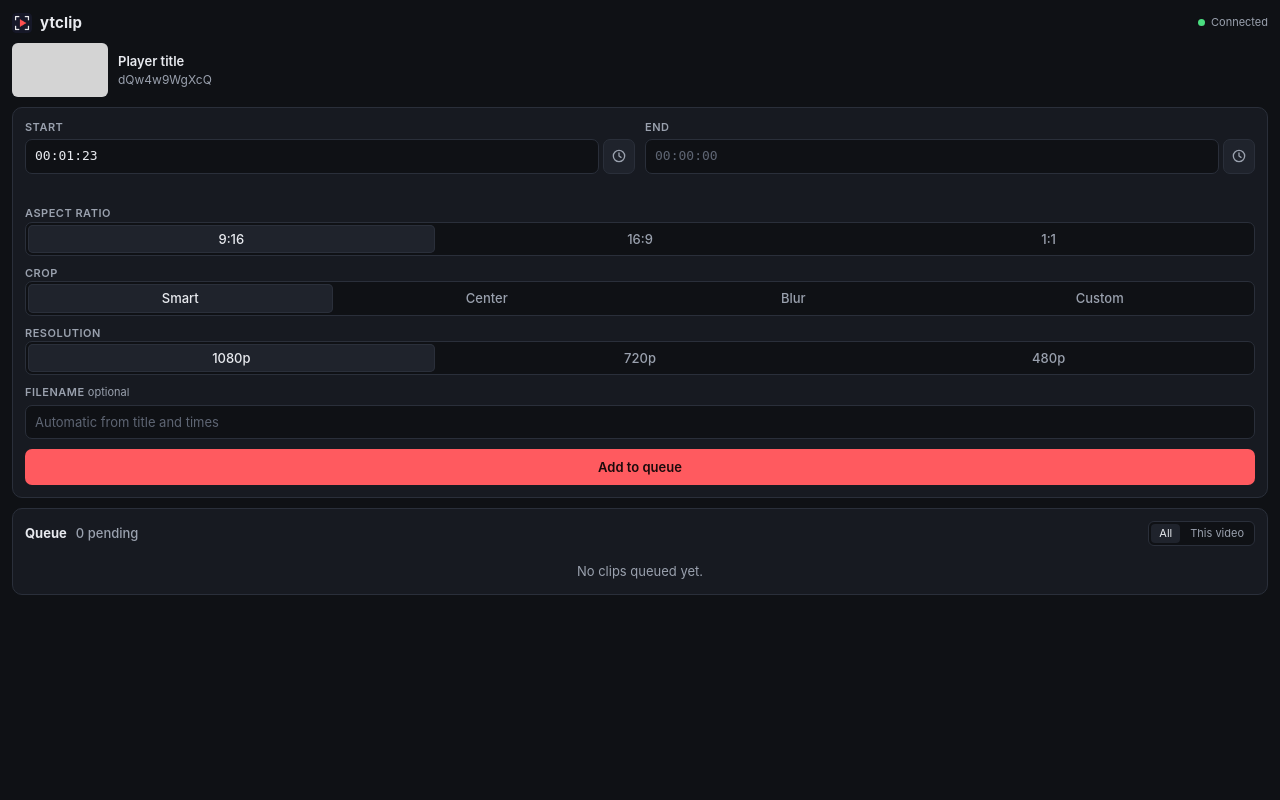
Test case: App › starts a download and clears the queue
Type "00:01:40" into the field labelled "End".
click(932, 156); type("00:01:40")  # box 645,139 -> 1219,174
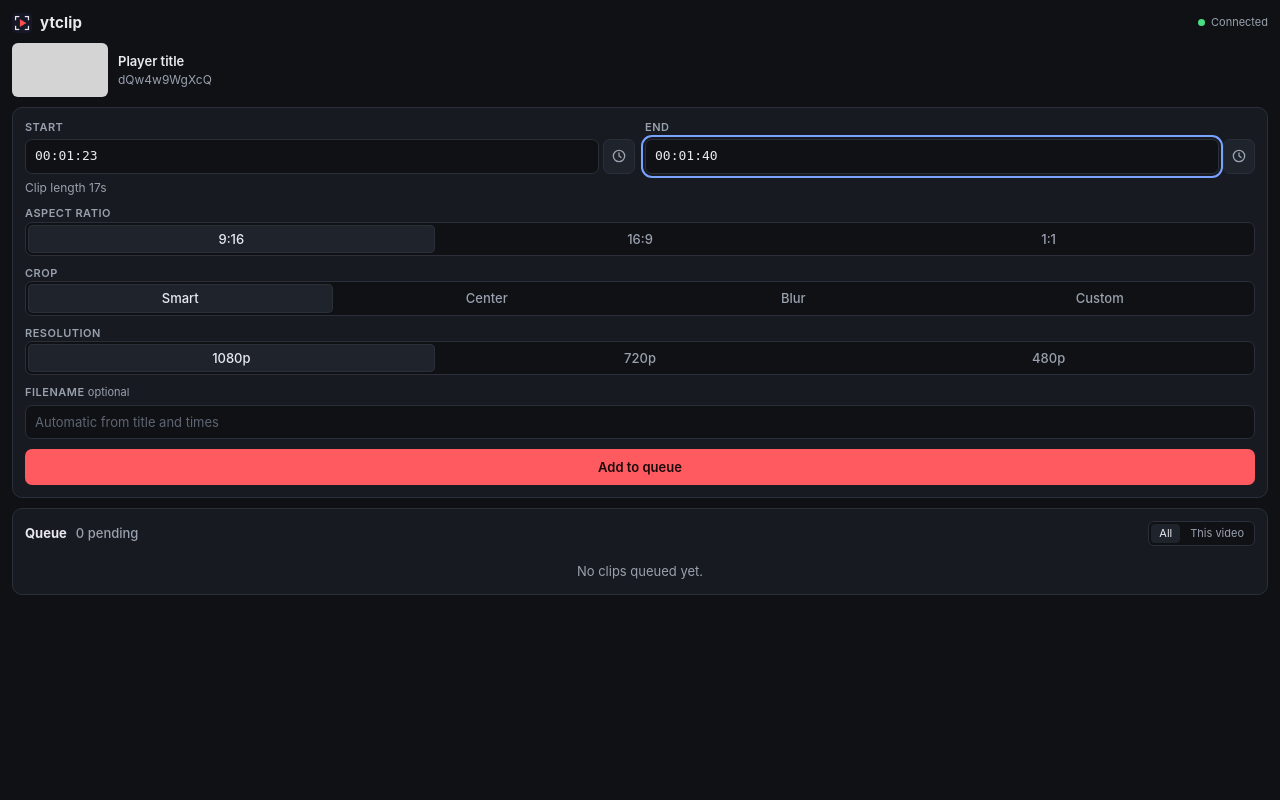
Click the button "Add to queue".
click(640, 467)  # box 25,449 -> 1255,485
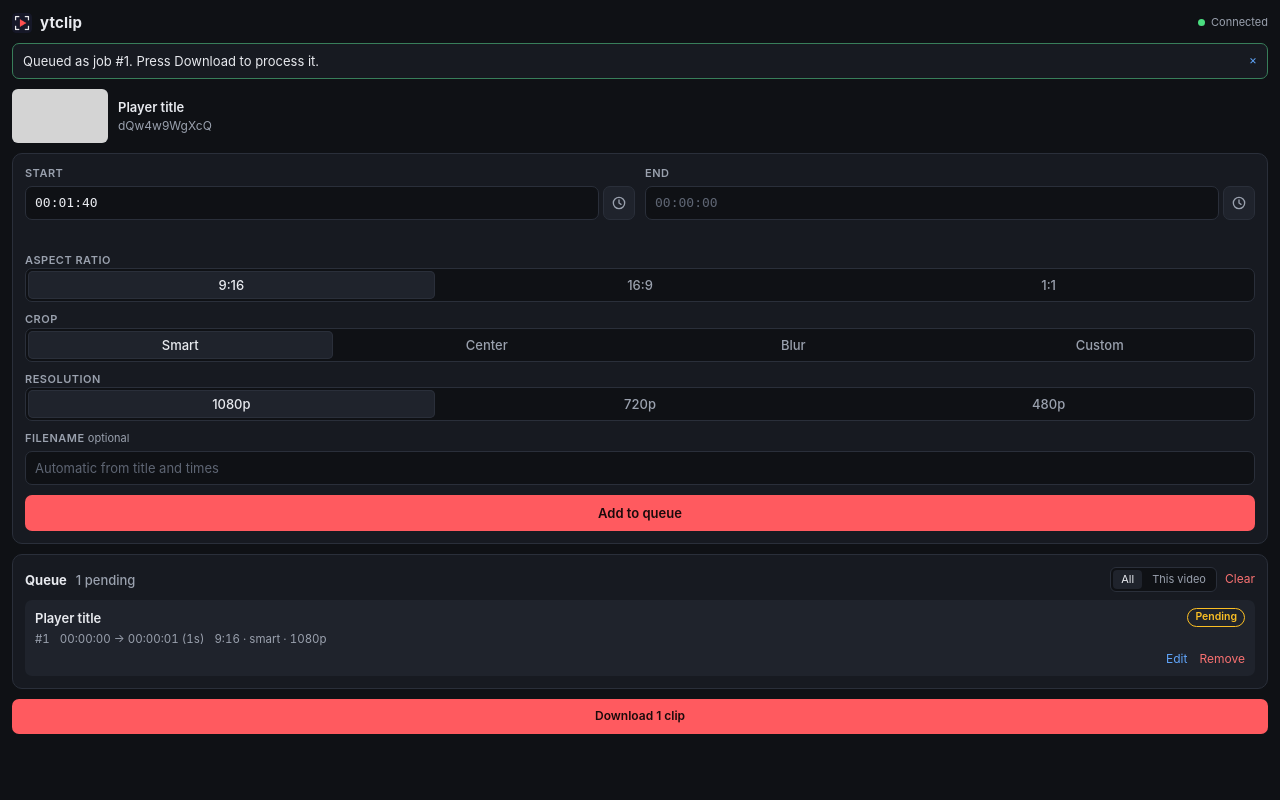
Click the button "Download 1 clip".
click(640, 716)  # box 12,699 -> 1268,734
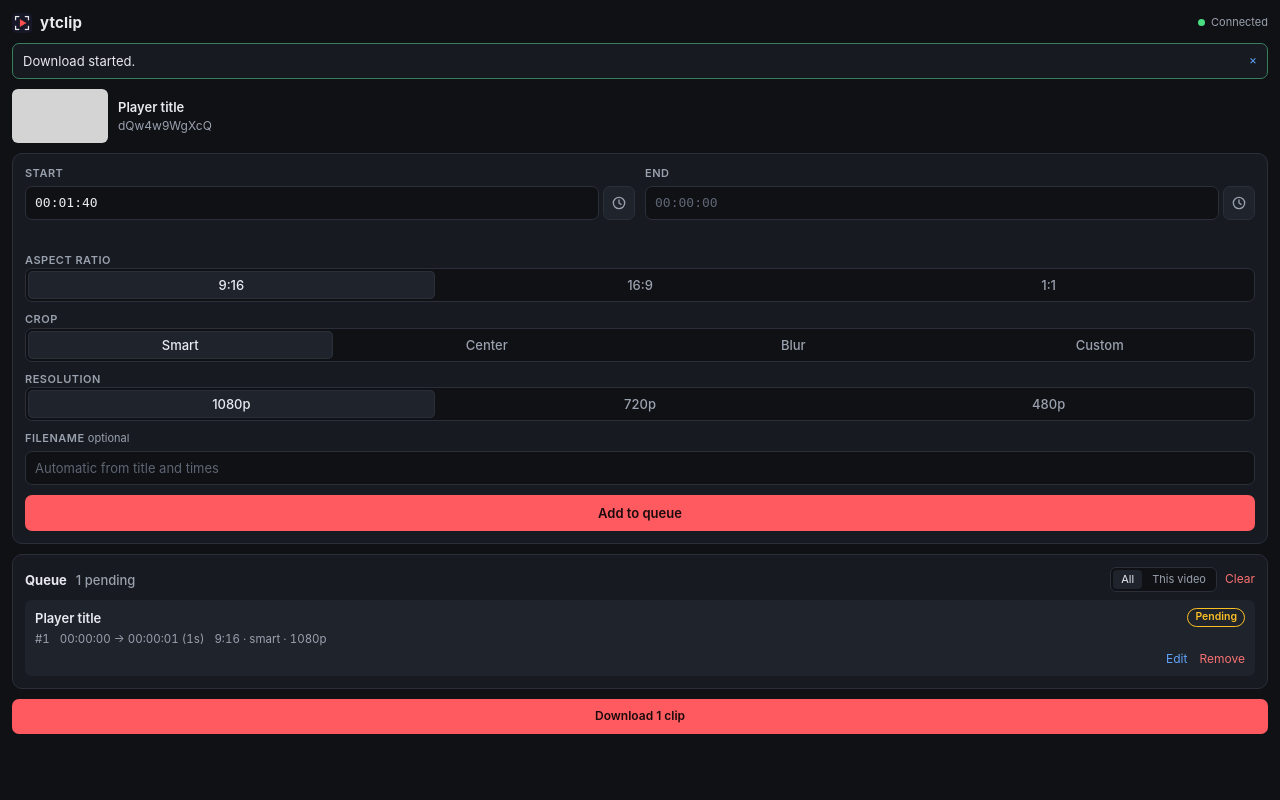
Expected: the text "Download started." is shown, 23,52 -> 135,70
Click the button "Clear".
click(1240, 580)  # box 1225,571 -> 1255,588
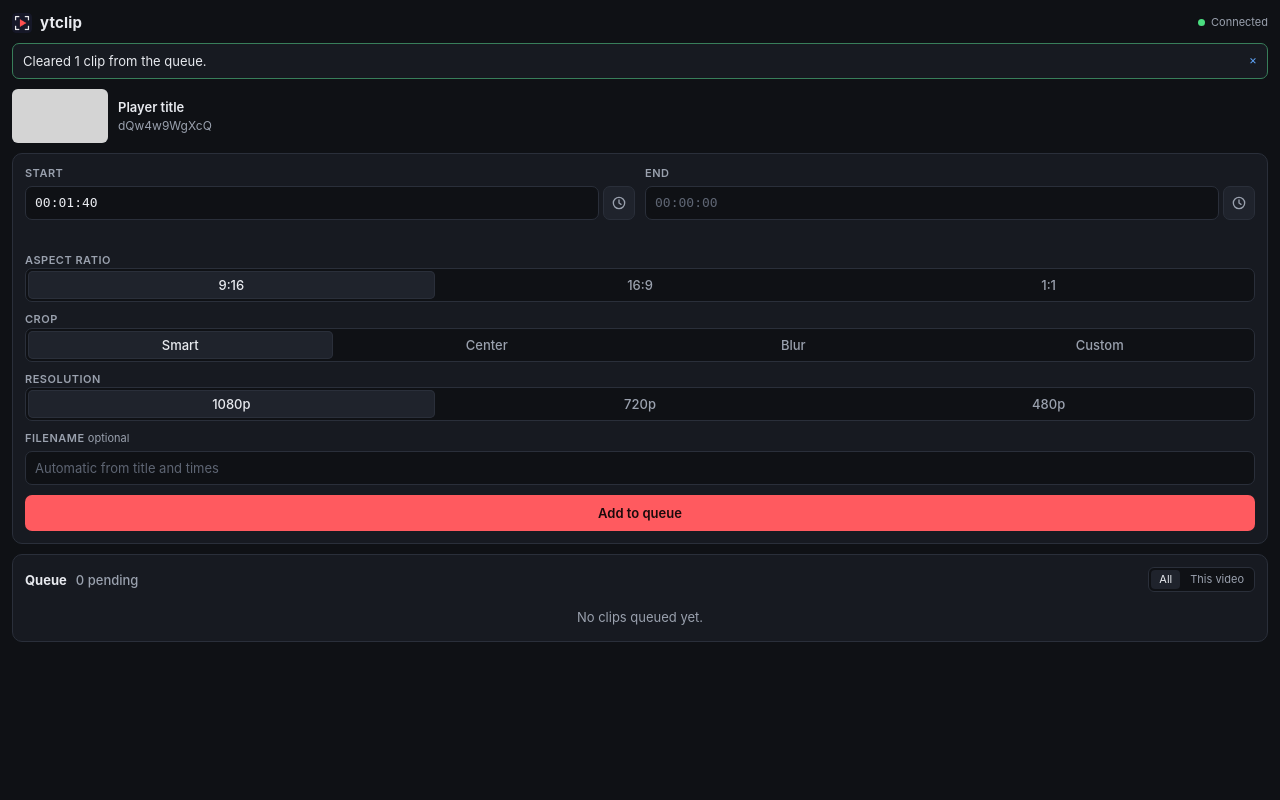
Expected: the text "Cleared 1 clip from the queue." is shown, 23,52 -> 207,70
Expected: the text "No clips queued yet." is shown, 577,610 -> 703,626
